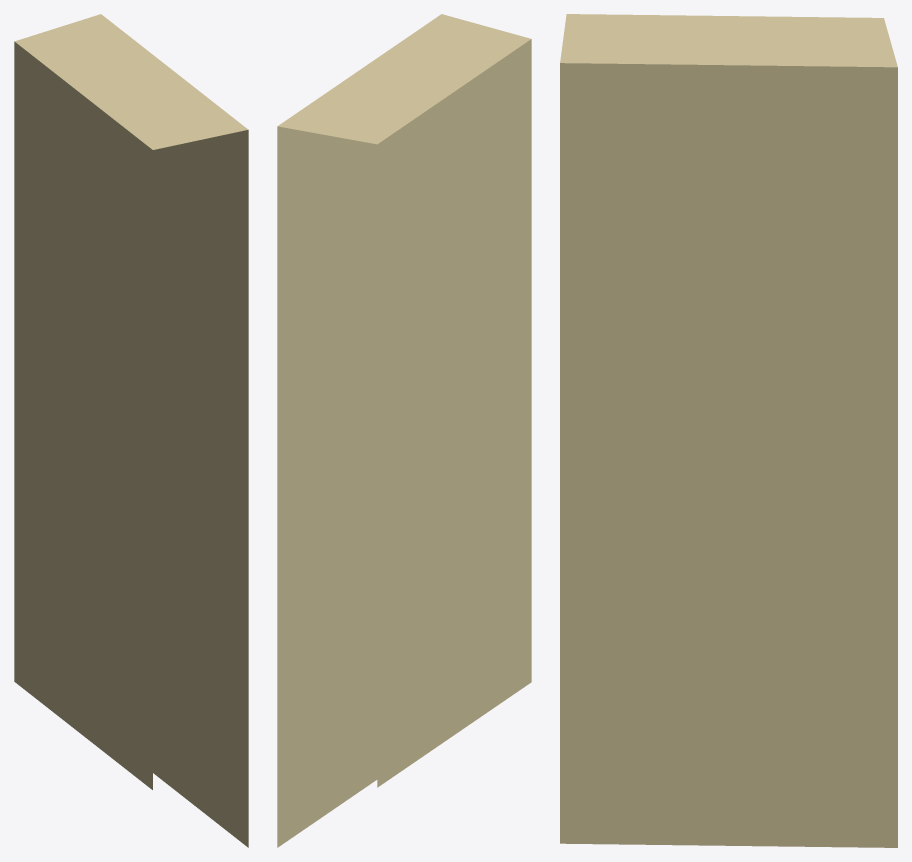
Rendered from wall28.fbx.
The picture shows the model from 3 angles, left to right: view 1: azimuth 30°, elevation 25°; view 2: azimuth 150°, elevation 25°; view 3: azimuth 270°, elevation 25°; orthographic projection. The views are drawn at different scales.
Parts seen in each view (by area): view 1: duvar.008; view 2: duvar.008; view 3: duvar.008.
Boxes of the visible parts, <box> form: duvar.008: <box>14,14,248,847</box>; duvar.008: <box>277,14,531,847</box>; duvar.008: <box>560,14,897,847</box>.
Size of the model in its own units: 6.59 by 44.99 by 17.65.
